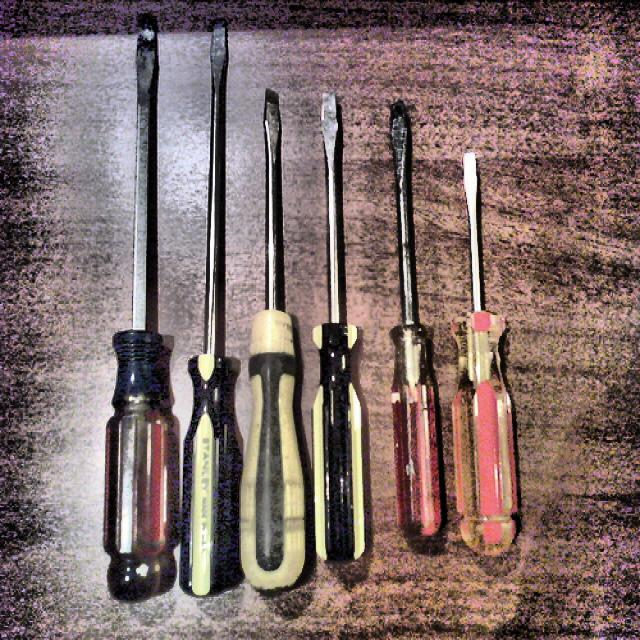screwdriver: (102, 14, 168, 602), (240, 90, 306, 591), (180, 21, 230, 598), (453, 152, 519, 552), (388, 100, 445, 540), (314, 92, 366, 563)
